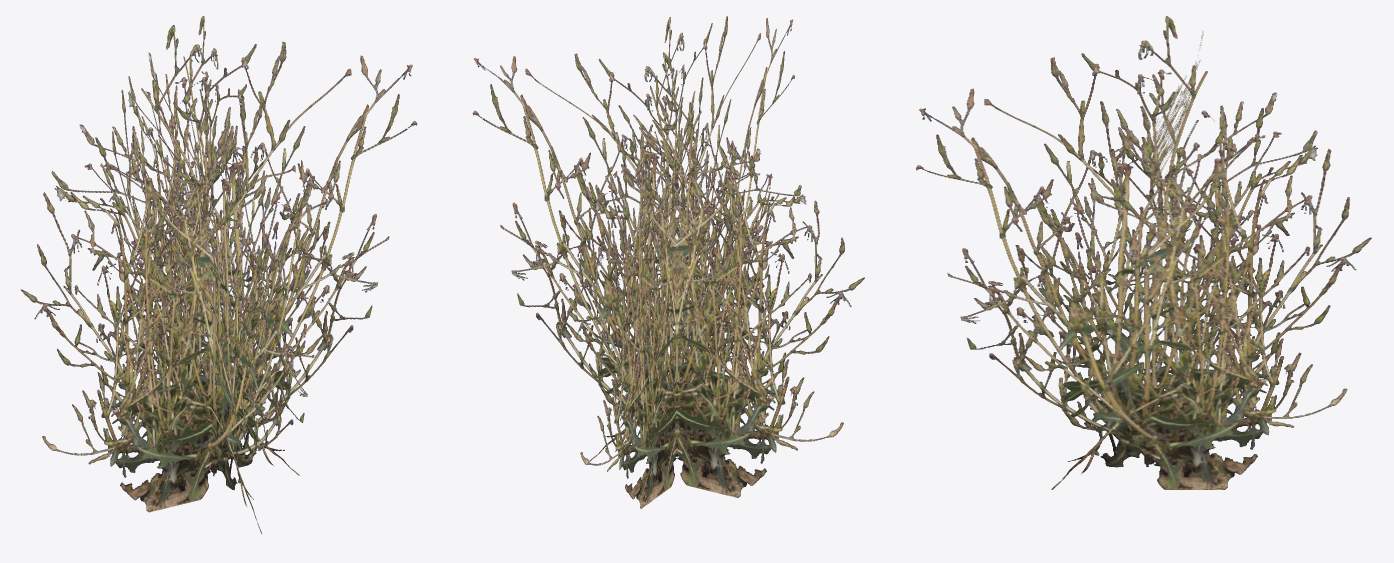
The model's file is Plant_Drygrass.FBX.
3 renders of one model, left to right at view 1: azimuth 30°, elevation 25°; view 2: azimuth 150°, elevation 25°; view 3: azimuth 270°, elevation 25°, orthographic.
Visible parts, largest first — view 1: Plant_Drygrass; view 2: Plant_Drygrass; view 3: Plant_Drygrass.
Boxes of the visible parts, bbox=[...] form: Plant_Drygrass: bbox=[21, 16, 417, 533]; Plant_Drygrass: bbox=[472, 16, 864, 508]; Plant_Drygrass: bbox=[916, 16, 1371, 489].
Bounding box in the file's own units: 44.16 × 48.49 × 44.26.
